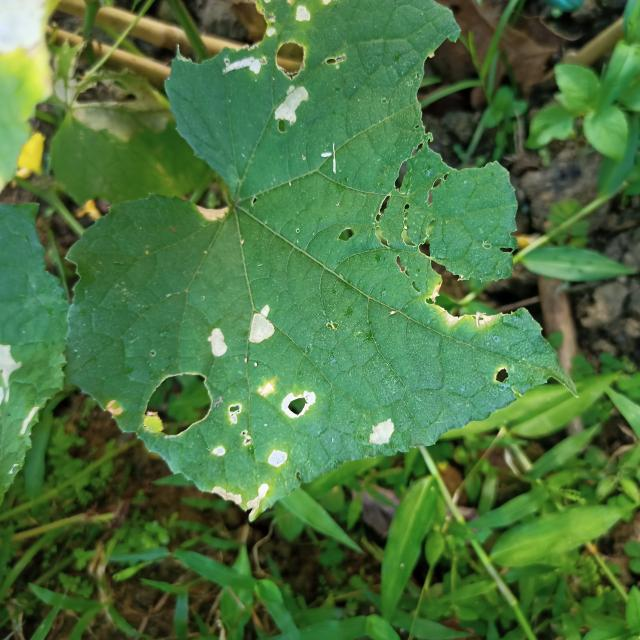disease_cucumber: (210, 372, 400, 509), (210, 0, 360, 139), (195, 303, 282, 362)
